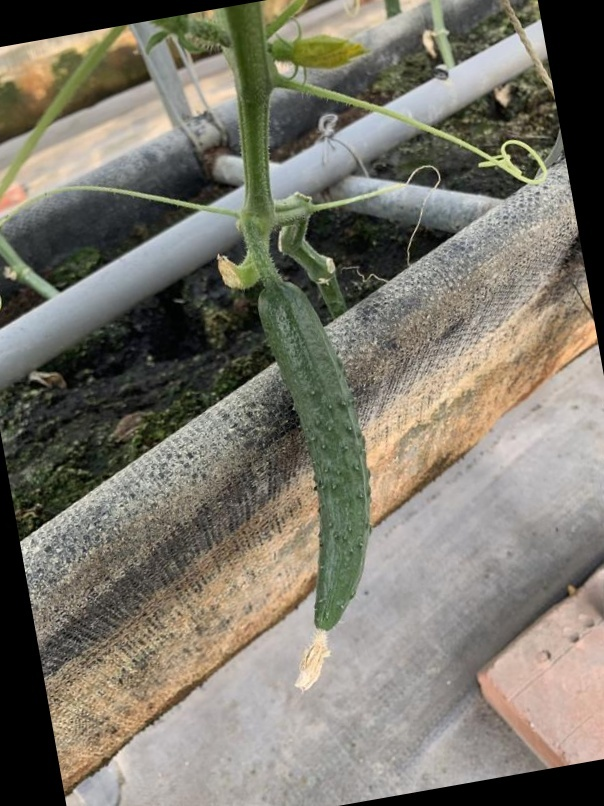growth: (249, 273, 385, 701)
mature: (248, 263, 385, 697)
